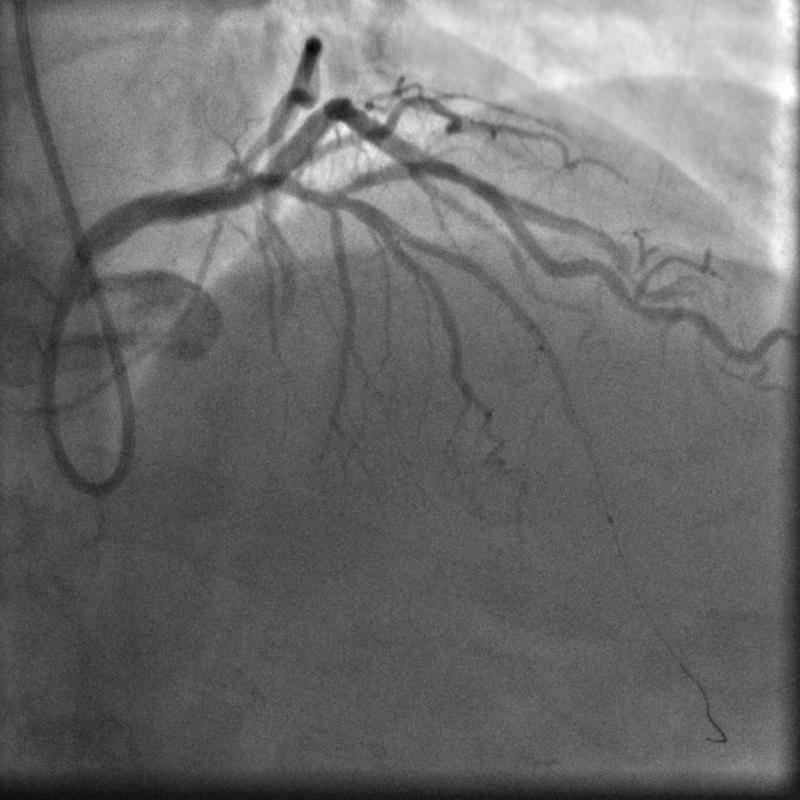Stenosis: (442, 155, 484, 199)
